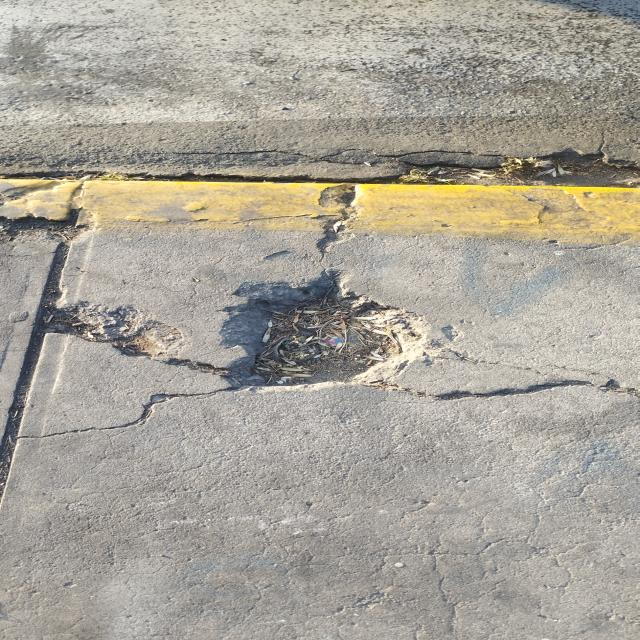hole: (228, 290, 408, 394)
